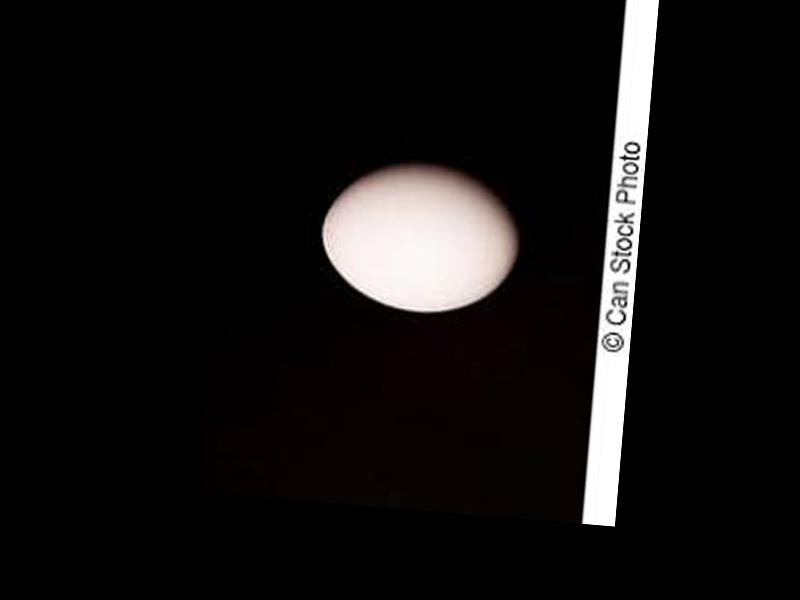Eggs: (316, 157, 527, 319)
